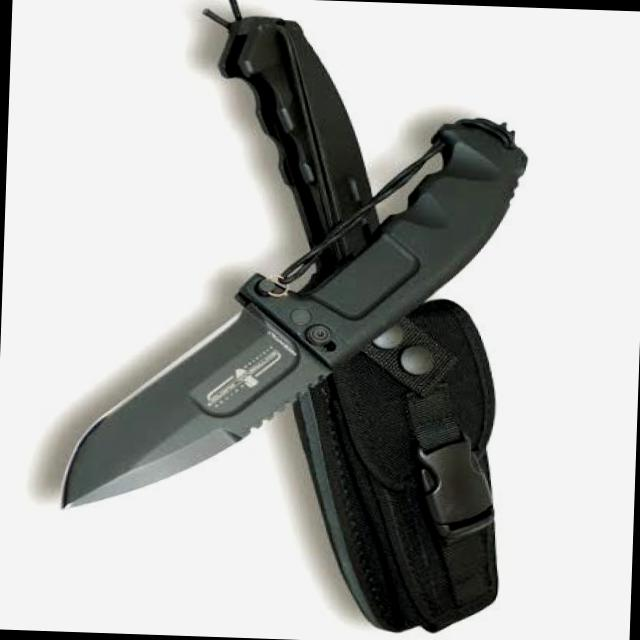knife: (48, 274, 346, 524)
